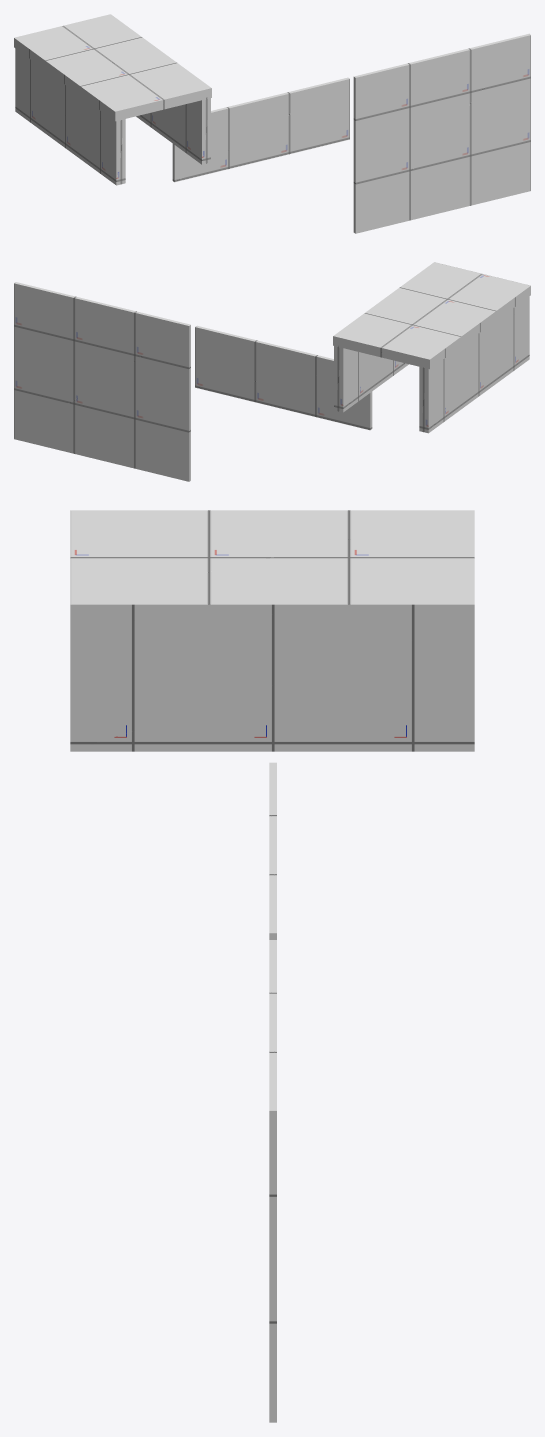
Rendered from testObsticalCourse.fbx.
3 renders of one model, top to bottom at view 1: azimuth 30°, elevation 25°; view 2: azimuth 150°, elevation 25°; view 3: azimuth 270°, elevation 25°, orthographic. The views are drawn at different scales.
Visible parts, largest first — view 1: TestObstacleCourse_028, TestObstacleCourse_029, TestObstacleCourse_027; view 2: TestObstacleCourse_028, TestObstacleCourse_029, TestObstacleCourse_027; view 3: TestObstacleCourse_029, TestObstacleCourse_028, TestObstacleCourse_027.
Boxes of the visible parts, box(x1,y1,x2,y2) form: TestObstacleCourse_028: box(353, 34, 530, 233); TestObstacleCourse_029: box(14, 14, 211, 185); TestObstacleCourse_027: box(172, 77, 349, 182); TestObstacleCourse_028: box(14, 282, 190, 481); TestObstacleCourse_029: box(333, 262, 530, 433); TestObstacleCourse_027: box(195, 325, 372, 430); TestObstacleCourse_029: box(70, 510, 474, 751); TestObstacleCourse_028: box(269, 940, 276, 1422); TestObstacleCourse_027: box(269, 762, 276, 939).
Bounding box in the file's own units: 786 × 370 × 296.
